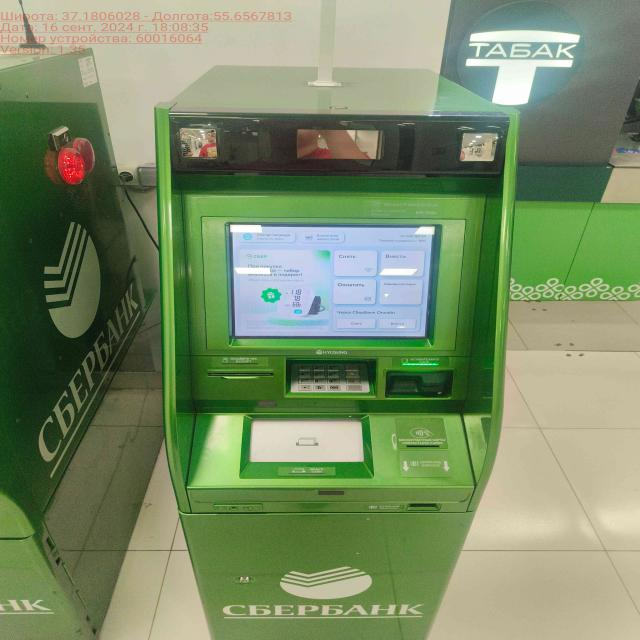bank: (159, 54, 521, 640), (0, 46, 165, 640)
